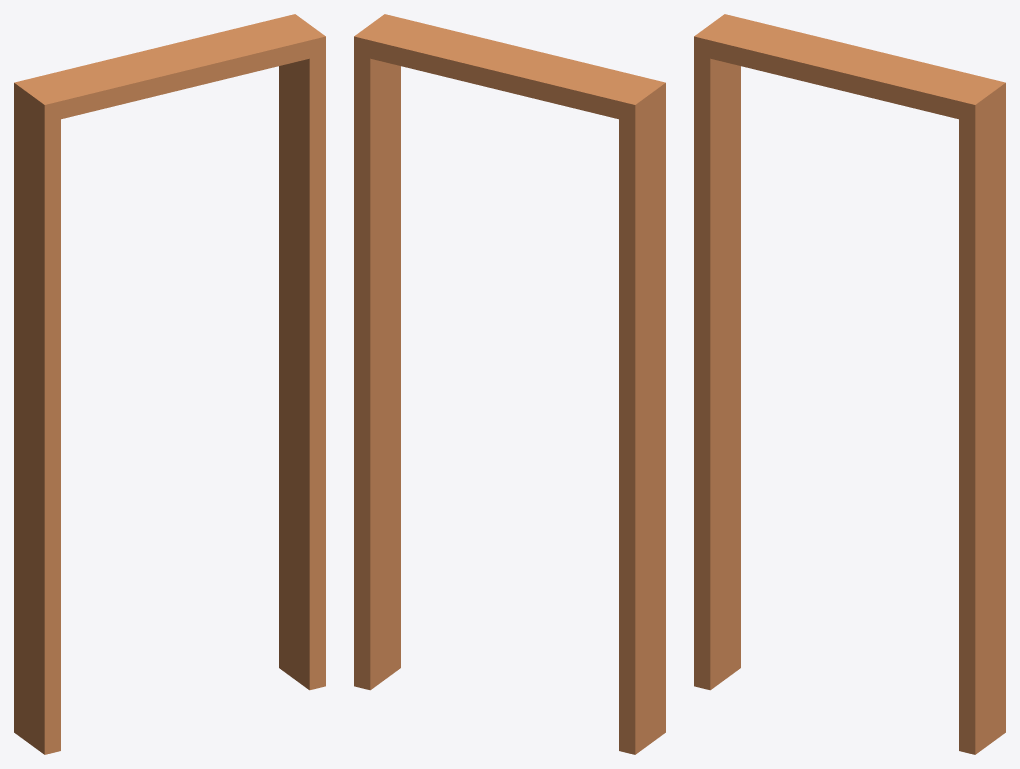
The model's file is door-frame.glb.
The picture shows the model from 3 angles, left to right: view 1: azimuth 30°, elevation 25°; view 2: azimuth 150°, elevation 25°; view 3: azimuth 330°, elevation 25°; orthographic projection.
Visible parts, largest first — view 1: body; view 2: body; view 3: body.
Part boxes in pixels (bbox=[...]): body: bbox=[14, 14, 325, 754]; body: bbox=[354, 14, 665, 754]; body: bbox=[694, 14, 1005, 754].
Size of the model in its own units: 0.9599 by 2.12 by 0.1814.
